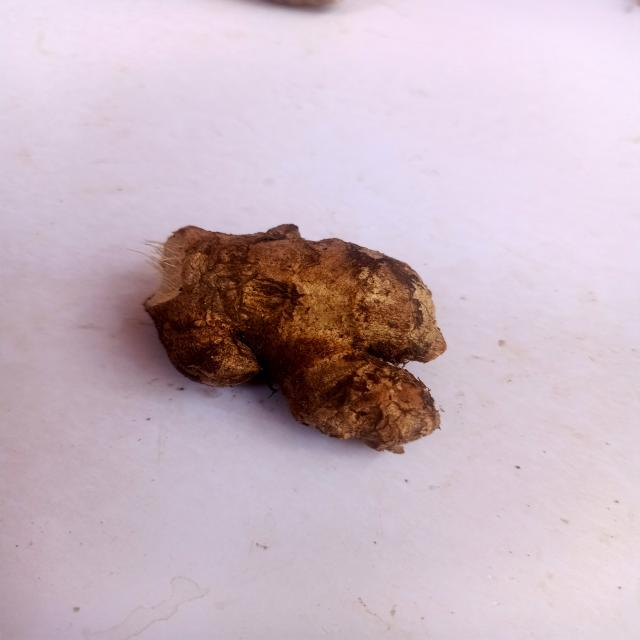Ginger: (107, 203, 464, 460)
